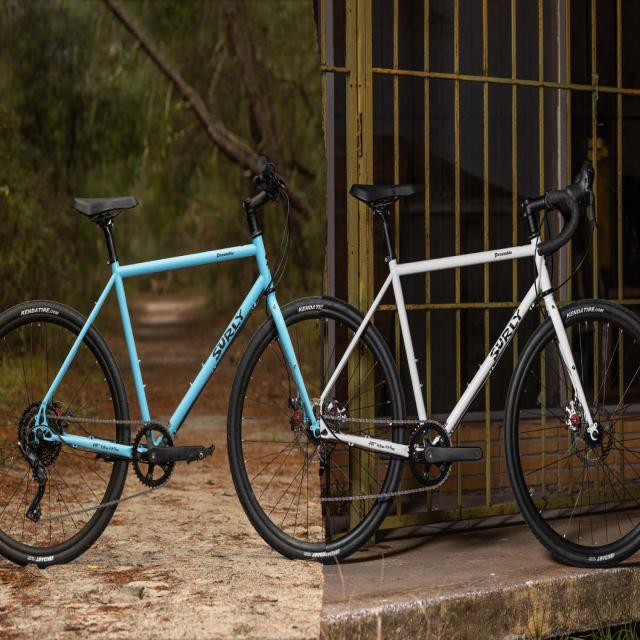bicycle: (1, 181, 640, 587)
